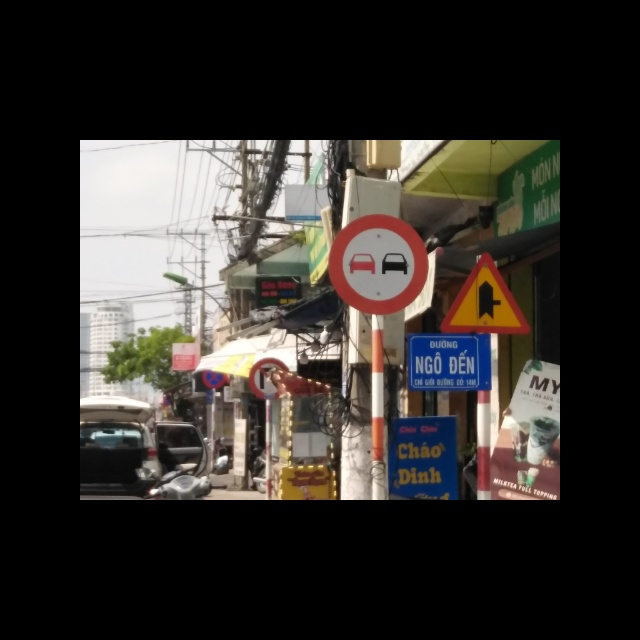Cấm vượt: (327, 213, 430, 316)
Giao nhau với đường không ưu tiên: (440, 249, 531, 335)
